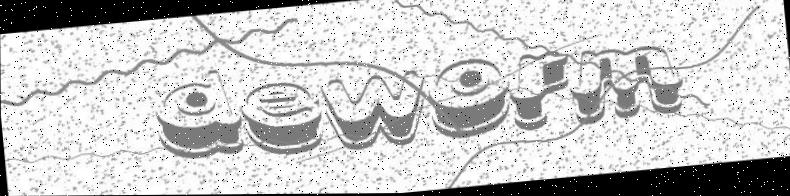d: (154, 70, 245, 162)
e: (241, 80, 324, 159)
m: (568, 43, 685, 127)
o: (428, 58, 510, 141)
r: (506, 52, 575, 132)
w: (319, 71, 428, 153)
